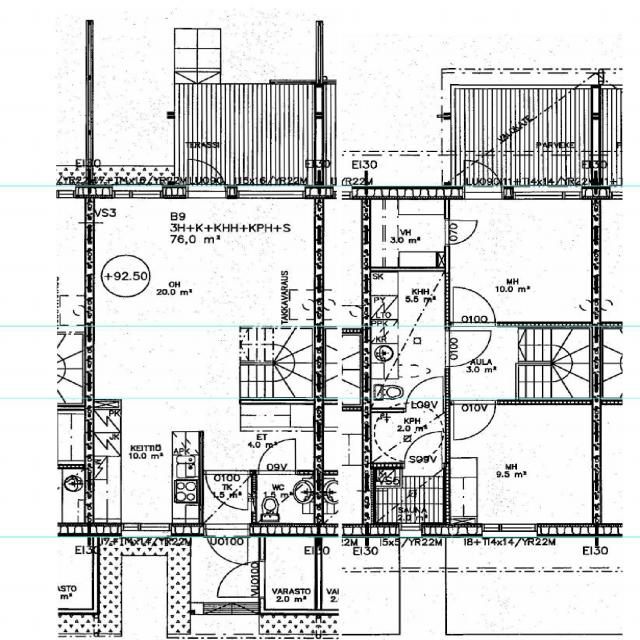door: (206, 523, 248, 573), (217, 561, 265, 597), (206, 470, 248, 510), (454, 400, 496, 440), (188, 153, 225, 198), (465, 154, 501, 200), (445, 331, 492, 366), (454, 286, 495, 326), (405, 430, 441, 469), (259, 439, 295, 474), (406, 377, 442, 412), (444, 221, 478, 244)
